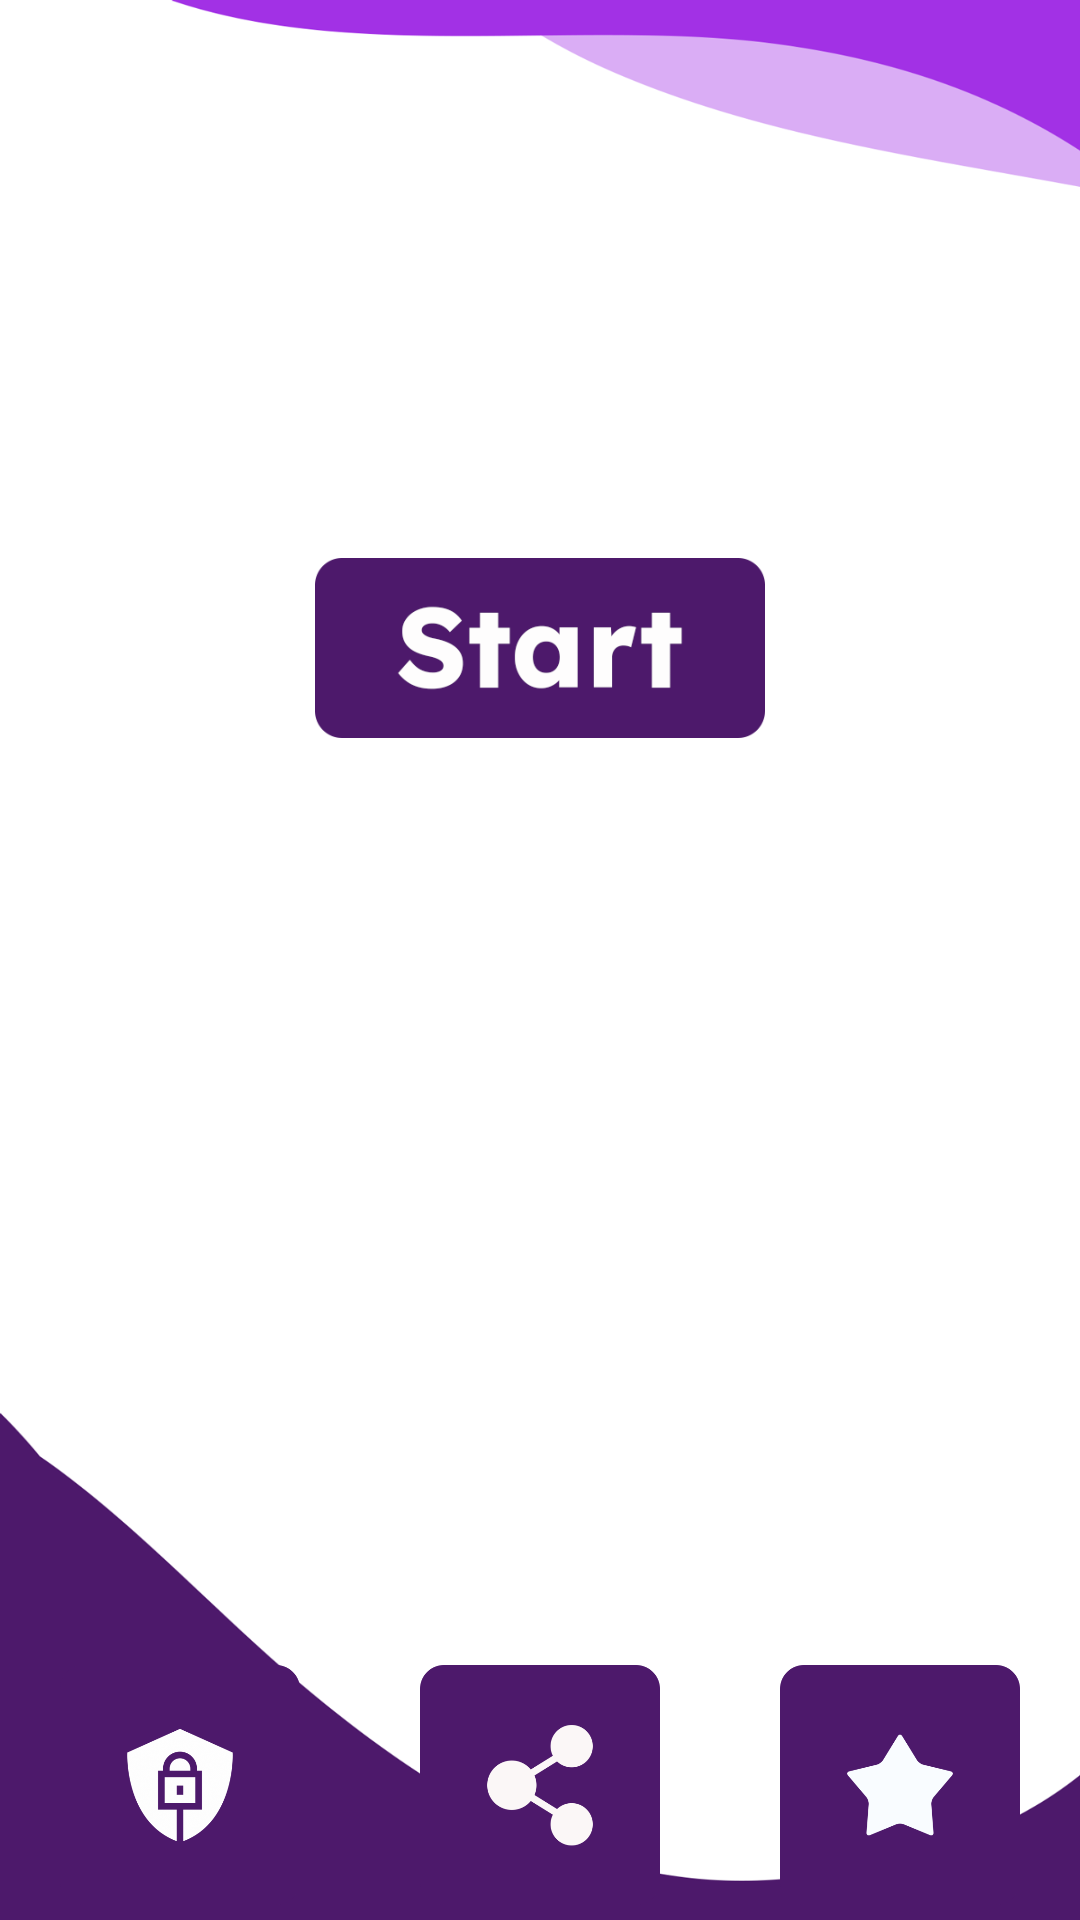

Point at icon controls on the screen. Image size 1080x1920, points as (x,y).
privacy: (180,1785)
rate us: (900,1785)
share: (540,1785)
